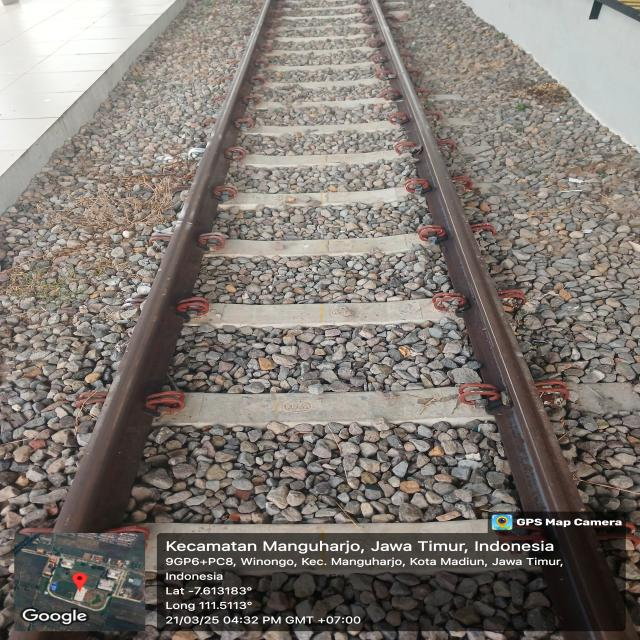rail-detection: (370, 0, 631, 640), (55, 0, 275, 533)
